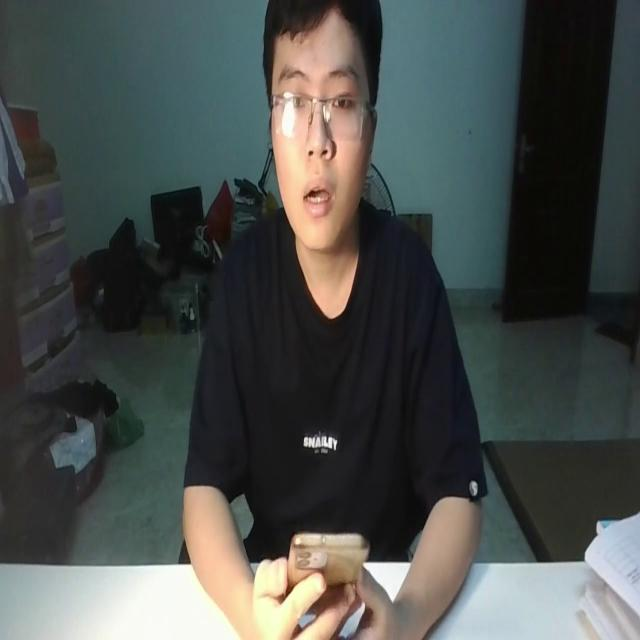phone: (281, 528, 369, 608)
student: (181, 0, 485, 640)
